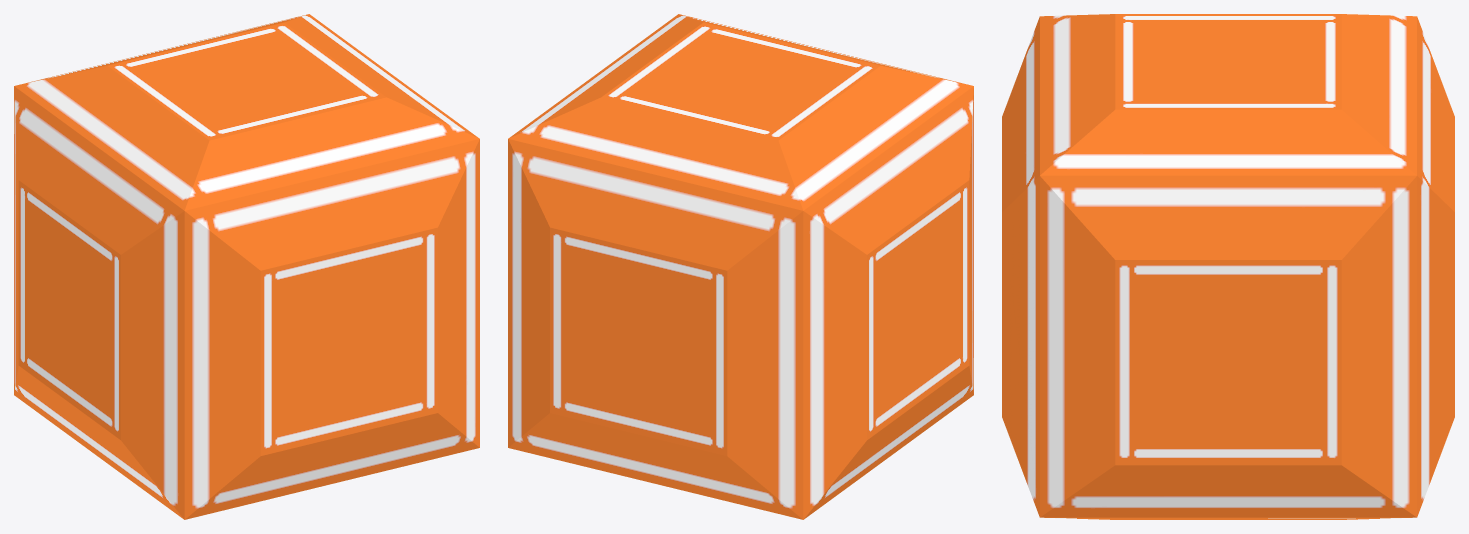
The model's file is fancyCube.gltf.
The picture shows the model from 3 angles, left to right: view 1: azimuth 30°, elevation 25°; view 2: azimuth 150°, elevation 25°; view 3: azimuth 270°, elevation 25°; orthographic projection. The views are drawn at different scales.
Parts seen in each view (by area): view 1: Cube; view 2: Cube; view 3: Cube.
Part boxes in pixels (x1,y1,x2,y2): Cube: [14, 14, 479, 519]; Cube: [508, 14, 973, 519]; Cube: [1002, 14, 1454, 519].
Bounding box in the file's own units: 2.4 × 2.4 × 2.4.
1 material, 1 textured.
